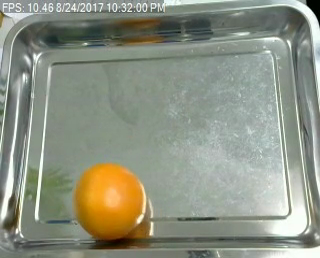Orange: (74, 162, 148, 241)
